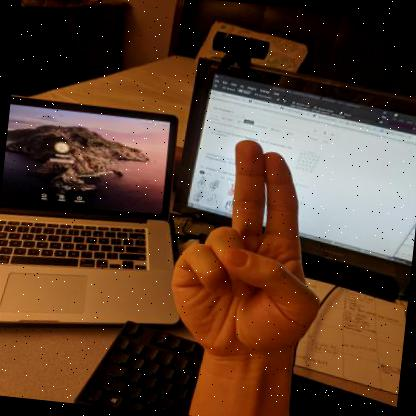U: (170, 140, 320, 364)
